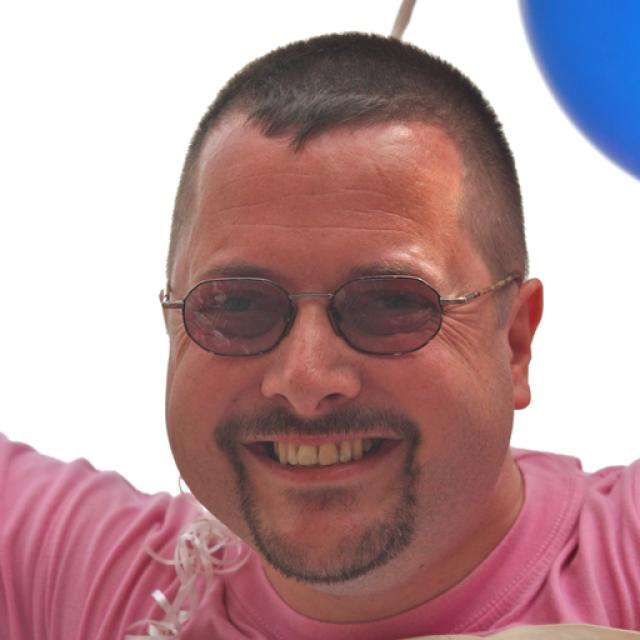Acne: (404, 245, 421, 260)
Wrinkle: (210, 182, 394, 212), (232, 215, 418, 237), (344, 203, 434, 230)
